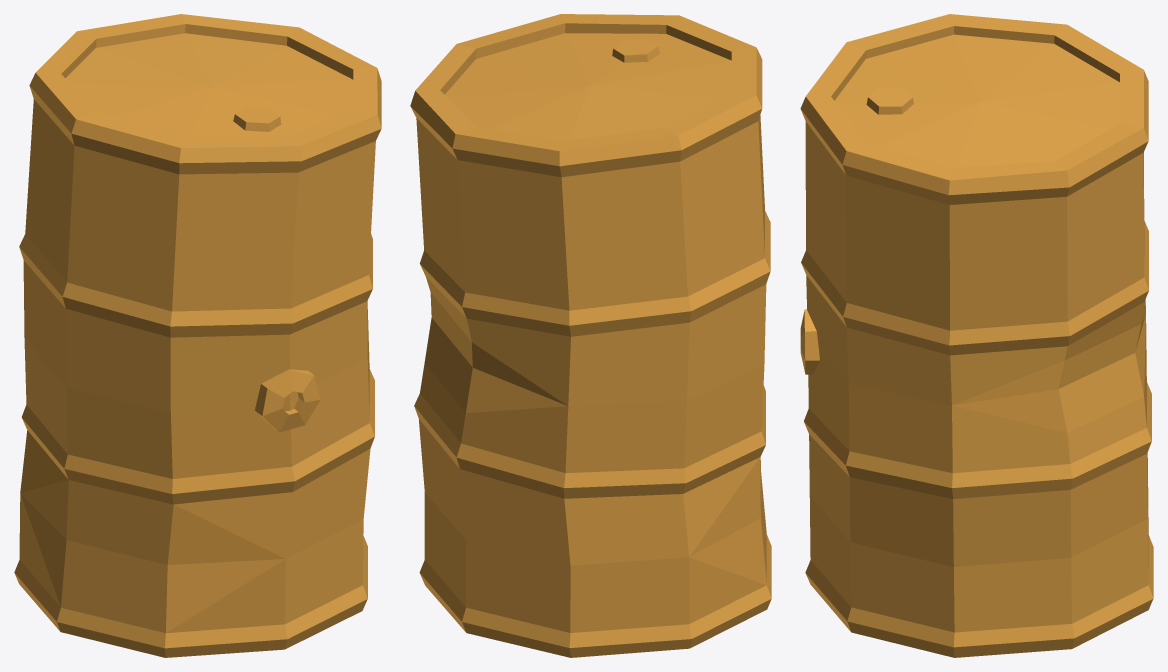
The model's file is oil-drum-demaged.fbx.
3 views of the same model, side by side, from view 1: azimuth 30°, elevation 25°; view 2: azimuth 150°, elevation 25°; view 3: azimuth 270°, elevation 25° (orthographic).
Visible parts, largest first — view 1: oil-drum-demaged; view 2: oil-drum-demaged; view 3: oil-drum-demaged.
Part boxes in pixels (<box>): oil-drum-demaged: <box>14,14,381,657</box>; oil-drum-demaged: <box>410,14,771,657</box>; oil-drum-demaged: <box>800,14,1153,657</box>.
Bounding box in the file's own units: 0.7065 × 1.08 × 0.6812.
